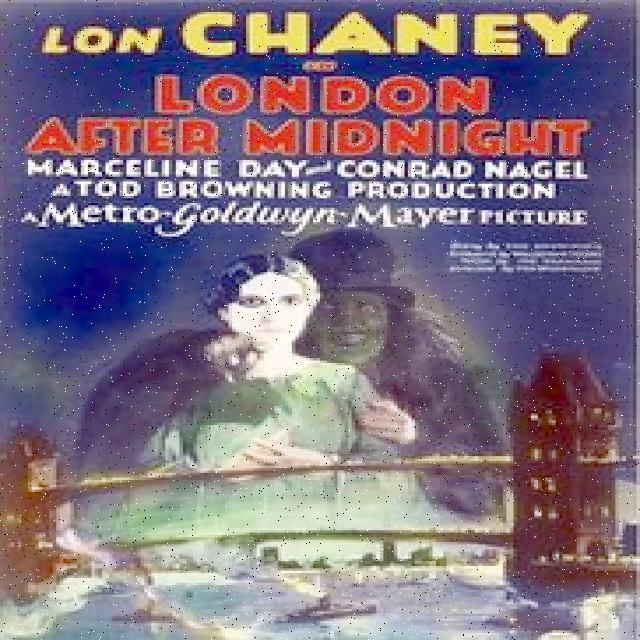movie-judul: (1, 5, 634, 234)
picture: (11, 241, 636, 640)
